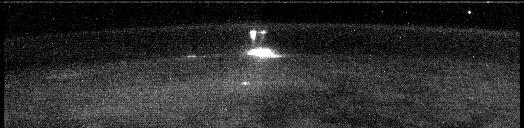positive: (248, 27, 267, 44)
